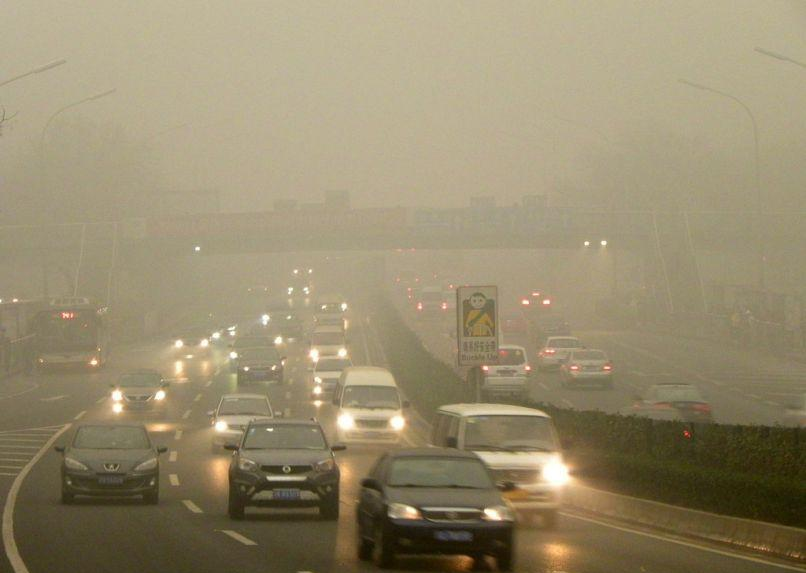bus: (30, 297, 112, 379)
car: (352, 443, 522, 566), (428, 401, 568, 529), (224, 416, 347, 522), (53, 419, 169, 503), (327, 363, 413, 452), (208, 392, 286, 458), (609, 401, 696, 456), (642, 380, 715, 437), (478, 342, 533, 399), (107, 369, 172, 417), (557, 347, 614, 387), (234, 345, 288, 386), (307, 356, 358, 399), (307, 325, 350, 368), (226, 335, 272, 374), (537, 336, 585, 370), (170, 324, 213, 357), (528, 311, 572, 342), (416, 285, 447, 323), (314, 296, 346, 328), (496, 307, 530, 336), (261, 302, 296, 330), (519, 286, 552, 313), (393, 268, 423, 291)
